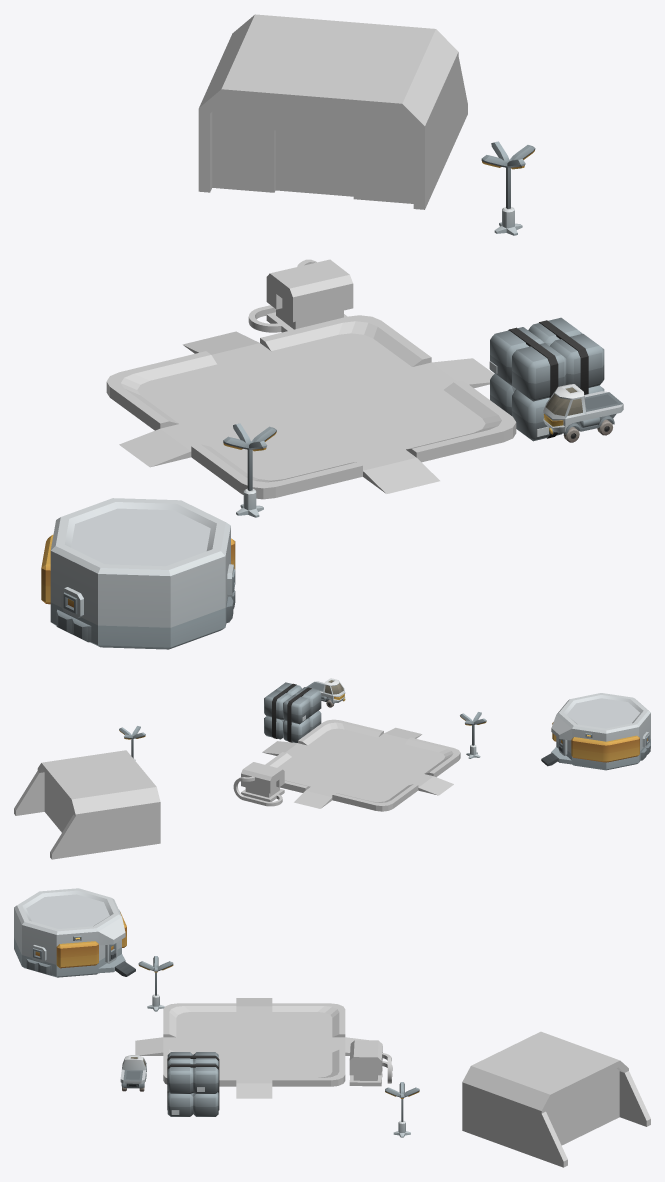
Rendered from Dock_3.glb.
3 renders of one model, top to bottom at view 1: azimuth 30°, elevation 25°; view 2: azimuth 150°, elevation 25°; view 3: azimuth 270°, elevation 25°, orthographic. The views are drawn at different scales.
Visible parts, largest first — view 1: Plane, hangar_smallB, basemodule_A.001, gate.006, cargo_B_stacked.001, machine_generator, spacetruck.001, lights.002, lights.003; view 2: Plane, hangar_smallB, basemodule_A.001, cargo_B_stacked.001, machine_generator, gate.007, spacetruck.001, cable, lights.002; view 3: Plane, hangar_smallB, basemodule_A.001, gate.007, cargo_B_stacked.001, machine_generator, spacetruck.001, lights.003, lights.002.
Part boxes in pixels (bbox=[...]): Plane: bbox=[106, 315, 516, 499]; hangar_smallB: bbox=[198, 14, 467, 209]; basemodule_A.001: bbox=[41, 498, 235, 649]; gate.006: bbox=[212, 100, 413, 203]; cargo_B_stacked.001: bbox=[489, 317, 604, 441]; machine_generator: bbox=[266, 259, 353, 332]; spacetruck.001: bbox=[543, 384, 623, 442]; lights.002: bbox=[223, 423, 276, 517]; lights.003: bbox=[481, 141, 535, 235]; Plane: bbox=[262, 719, 460, 811]; hangar_smallB: bbox=[14, 750, 160, 859]; basemodule_A.001: bbox=[541, 693, 650, 770]; cargo_B_stacked.001: bbox=[264, 682, 321, 742]; machine_generator: bbox=[241, 762, 284, 801]; gate.007: bbox=[44, 772, 73, 832]; spacetruck.001: bbox=[306, 678, 345, 707]; cable: bbox=[233, 776, 282, 806]; lights.002: bbox=[460, 712, 486, 758]; Plane: bbox=[135, 998, 368, 1098]; hangar_smallB: bbox=[462, 1031, 650, 1167]; basemodule_A.001: bbox=[14, 888, 135, 977]; gate.007: bbox=[546, 1068, 619, 1145]; cargo_B_stacked.001: bbox=[167, 1052, 219, 1116]; machine_generator: bbox=[349, 1040, 382, 1086]; spacetruck.001: bbox=[120, 1055, 146, 1091]; lights.003: bbox=[385, 1082, 419, 1137]; lights.002: bbox=[138, 956, 173, 1011].
Size of the model in its own units: 11.04 by 1.49 by 12.49.
5 materials, 4 textured.
